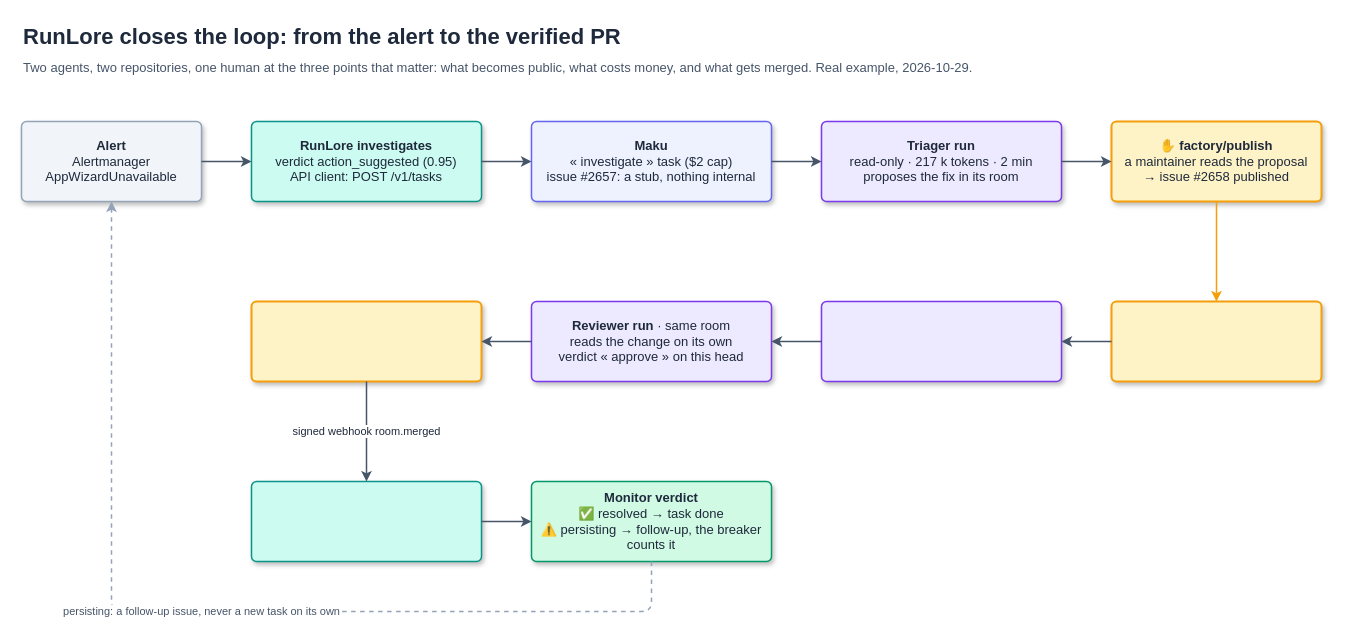
The diagram is 1346 pixels wide and 637 high, and some of its shapes have lost their labels. Each missing label, with the centre of its shape:
Implementer run standard tier · gVisor sandbox PR #2659 on agent/p3fxdxuu: point (942, 342)
Soak · 30 min RunLore asks Alertmanager and posts its verdict to Maku: point (367, 522)
✋ factory/ready a maintainer reads the issue and authorises one run's spend: point (1217, 342)
✋ Merged by a maintainer alert-rules class: human review 490 k tokens in total: point (367, 342)
